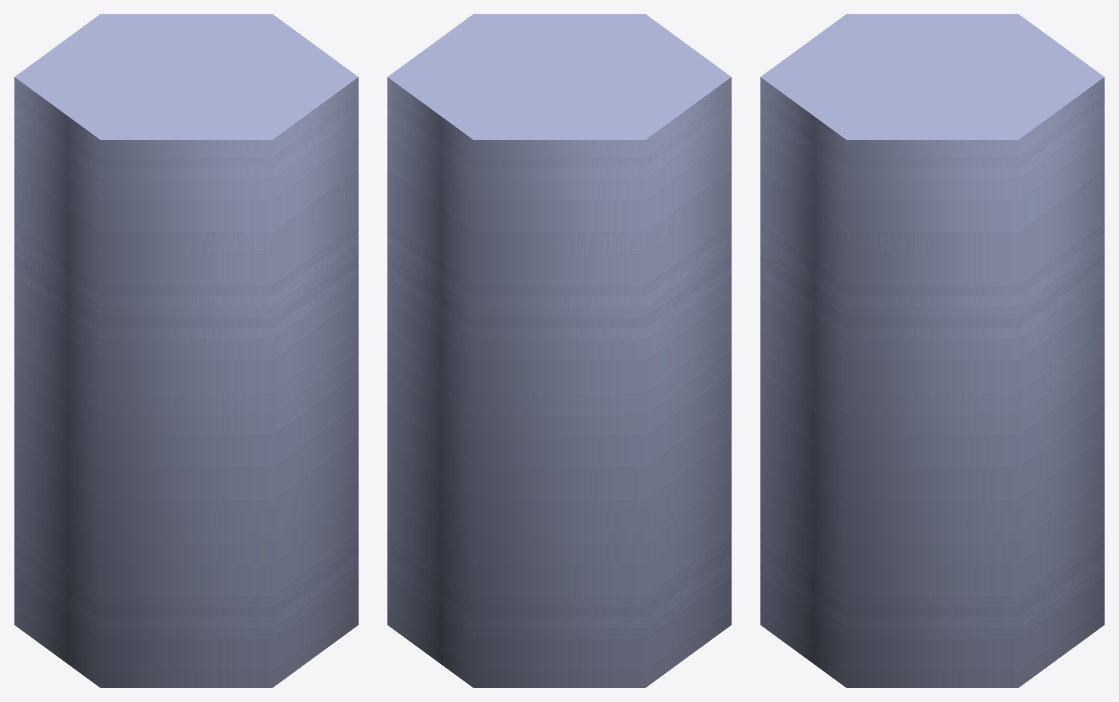
Rendered from kst_pipe.glb.
The picture shows the model from 3 angles, left to right: view 1: azimuth 30°, elevation 25°; view 2: azimuth 150°, elevation 25°; view 3: azimuth 270°, elevation 25°; orthographic projection.
Visible parts, largest first — view 1: pipe; view 2: pipe; view 3: pipe.
Boxes of the visible parts, bbox=[...] form: pipe: bbox=[14, 14, 358, 687]; pipe: bbox=[387, 14, 731, 687]; pipe: bbox=[760, 14, 1104, 687].
Size of the model in its own units: 0.4928 by 1 by 0.5691.
Materials: 1 (1 with a texture image).
